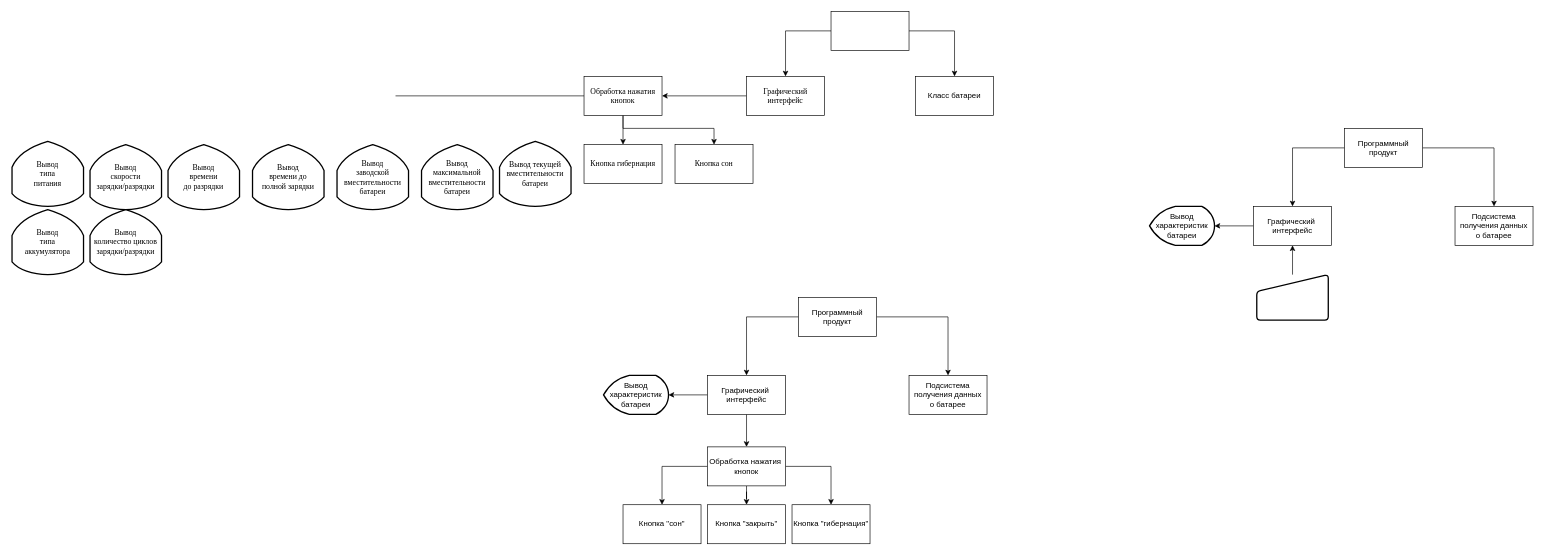
Image size: 1544x555. Some labels were removed from this diagram. The centre of each missing label's shape, as x and y in pixels:
Выбор кнопки действия: the point at 1292,297
Менеджер батареи ОС Windows: the point at 869,30
